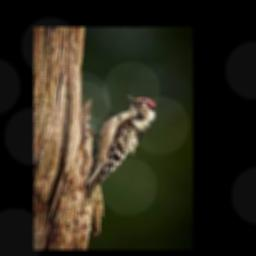Woodpecker: (87, 94, 158, 198)
